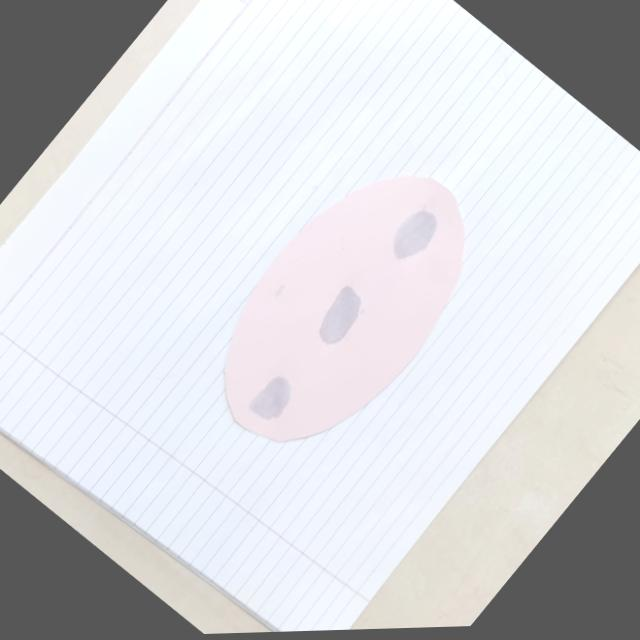BlueColor: (318, 286, 360, 342), (393, 208, 436, 258), (248, 375, 290, 419), (273, 283, 285, 298)
